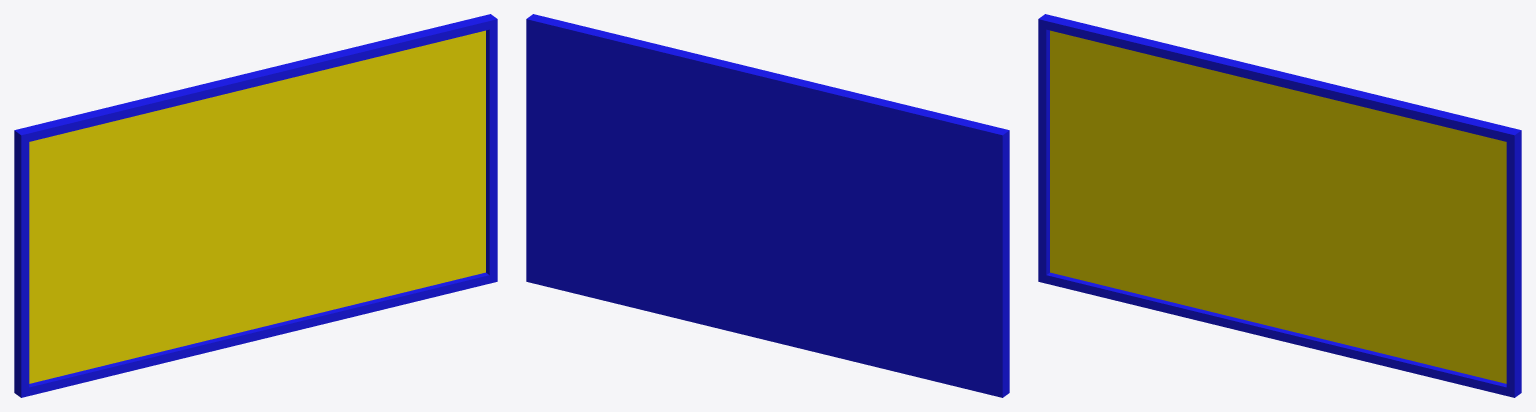
File: Bulleting Board Big.FBX
3 renders of one model, left to right at view 1: azimuth 30°, elevation 25°; view 2: azimuth 150°, elevation 25°; view 3: azimuth 330°, elevation 25°, orthographic.
Parts seen in each view (by area): view 1: Box001; view 2: Box001; view 3: Box001.
Boxes of the visible parts, x1,y1,x2,y2 form: Box001: (14,14,497,397); Box001: (526,14,1009,397); Box001: (1038,14,1521,397).
Size of the model in its own units: 2.85 by 1.5 by 0.0724.
